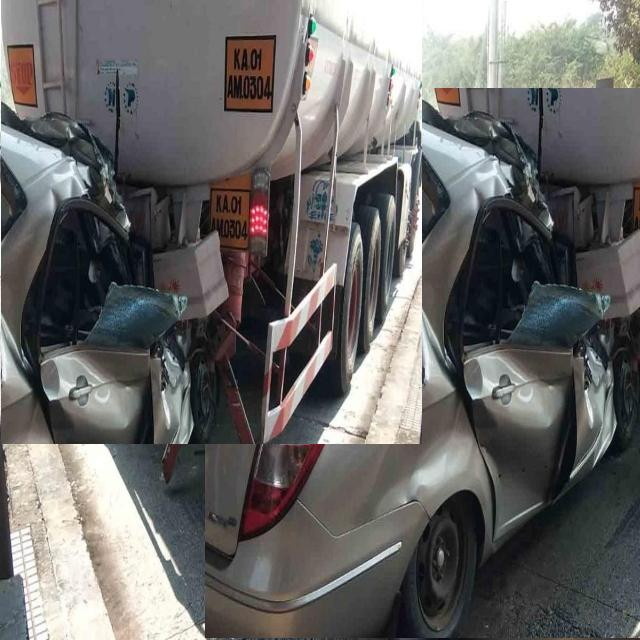accident: (205, 89, 640, 638)
truck: (1, 0, 421, 444)
